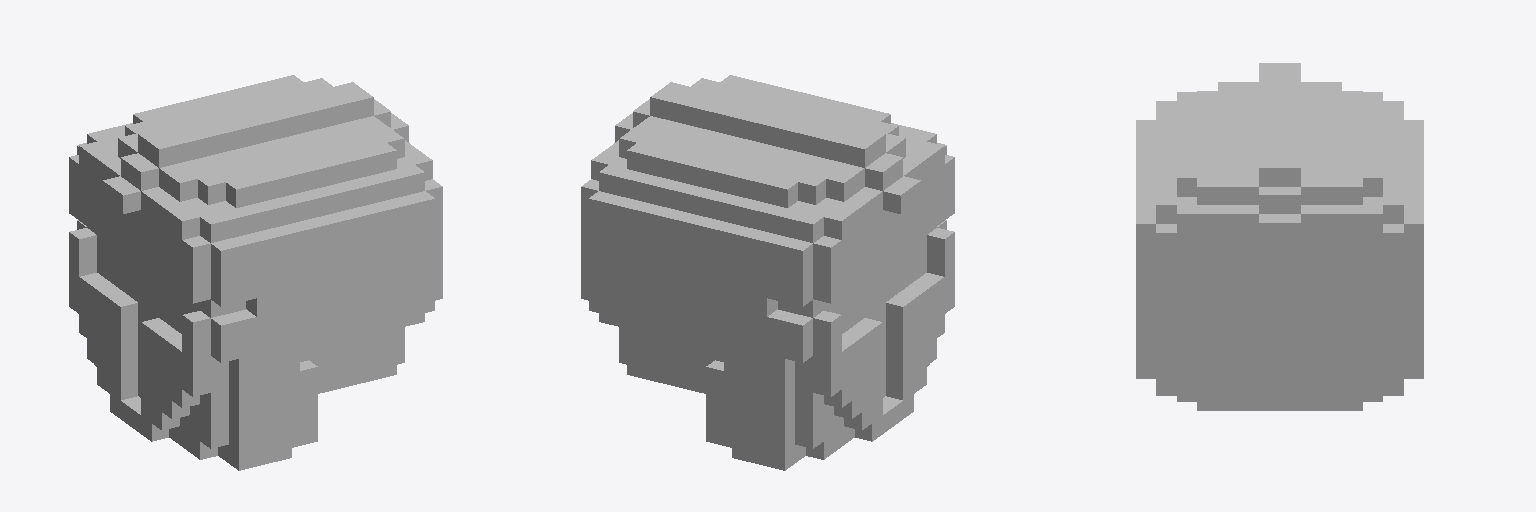
File: Mdl_HumanKeeper_1.obj
3 views of the same model, side by side, from view 1: azimuth 30°, elevation 25°; view 2: azimuth 150°, elevation 25°; view 3: azimuth 270°, elevation 25° (orthographic).
Parts seen in each view (by area): view 1: Mdl_HumanKeeper_1; view 2: Mdl_HumanKeeper_1; view 3: Mdl_HumanKeeper_1.
Boxes of the visible parts, x1=… form: Mdl_HumanKeeper_1: x1=69, y1=75, x2=442, y2=470; Mdl_HumanKeeper_1: x1=581, y1=75, x2=954, y2=470; Mdl_HumanKeeper_1: x1=1136, y1=63, x2=1423, y2=410.
Size of the model in its own units: 16 by 15 by 14.